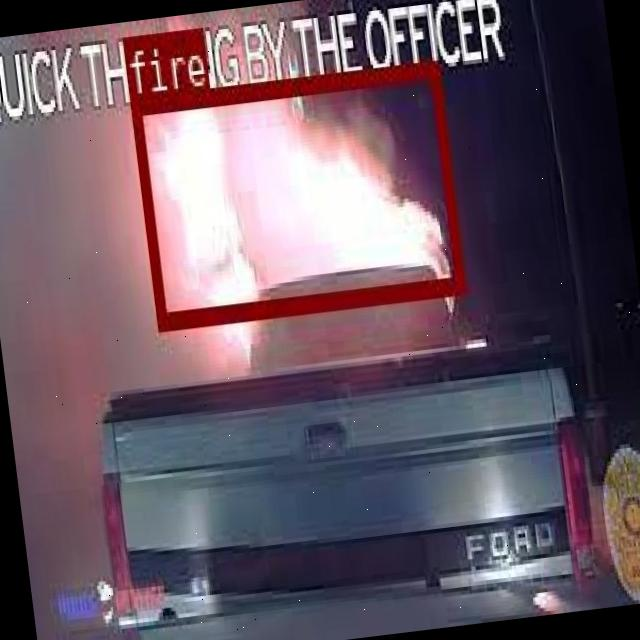fire: (128, 60, 462, 328)
